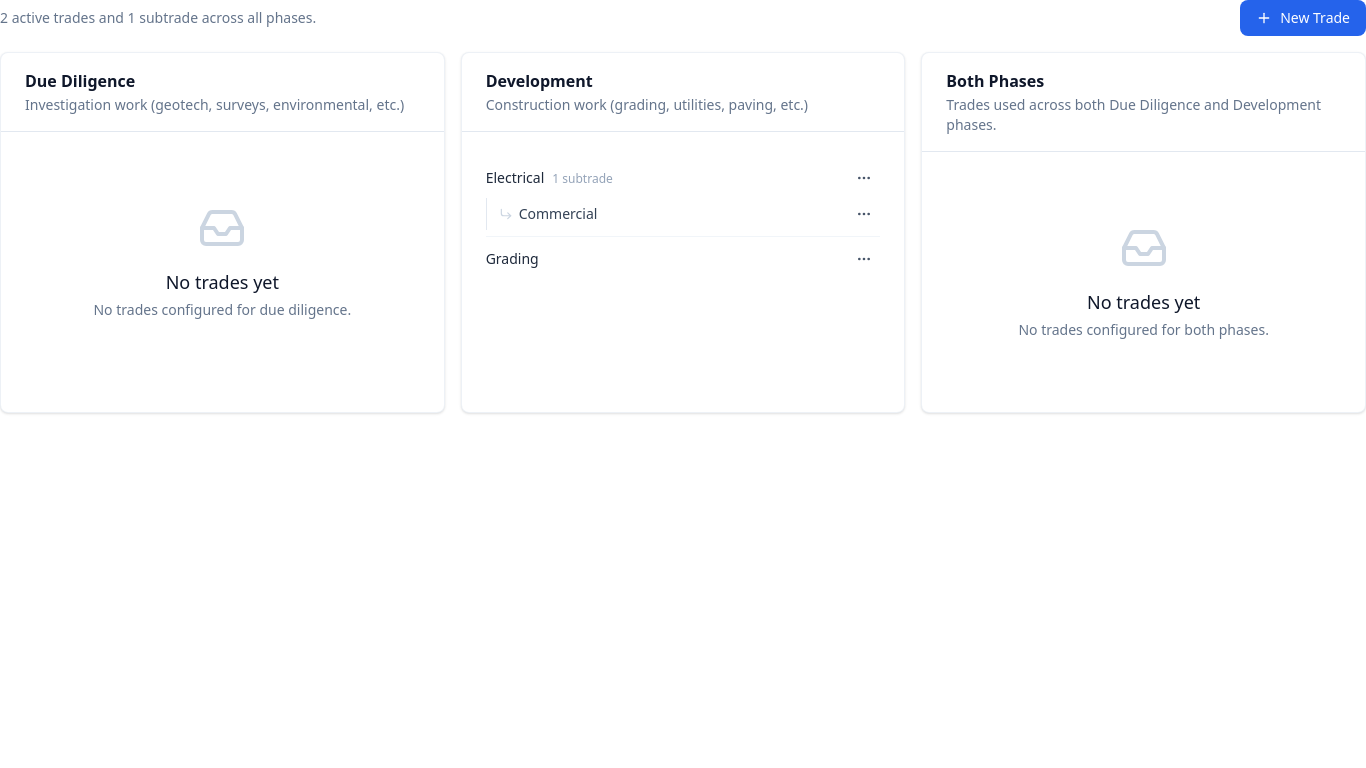
TradeManagementPanel › opens the add-subtrade form from a trade
This screenshot has width=1366, height=768.
Click the button named "actions for electrical" at (864, 178), box [848,162,880,194]
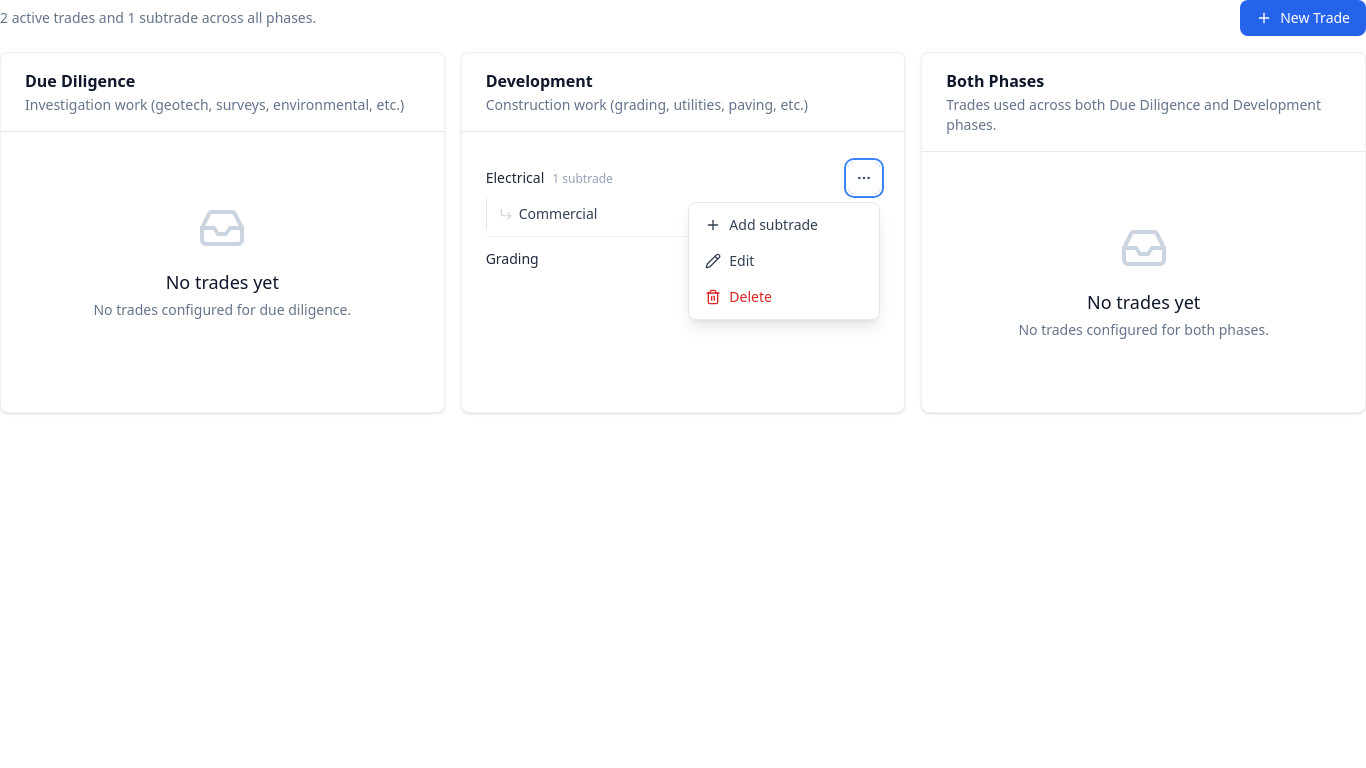
Click the menu item "Add subtrade" at (784, 225), box [689,207,879,243]
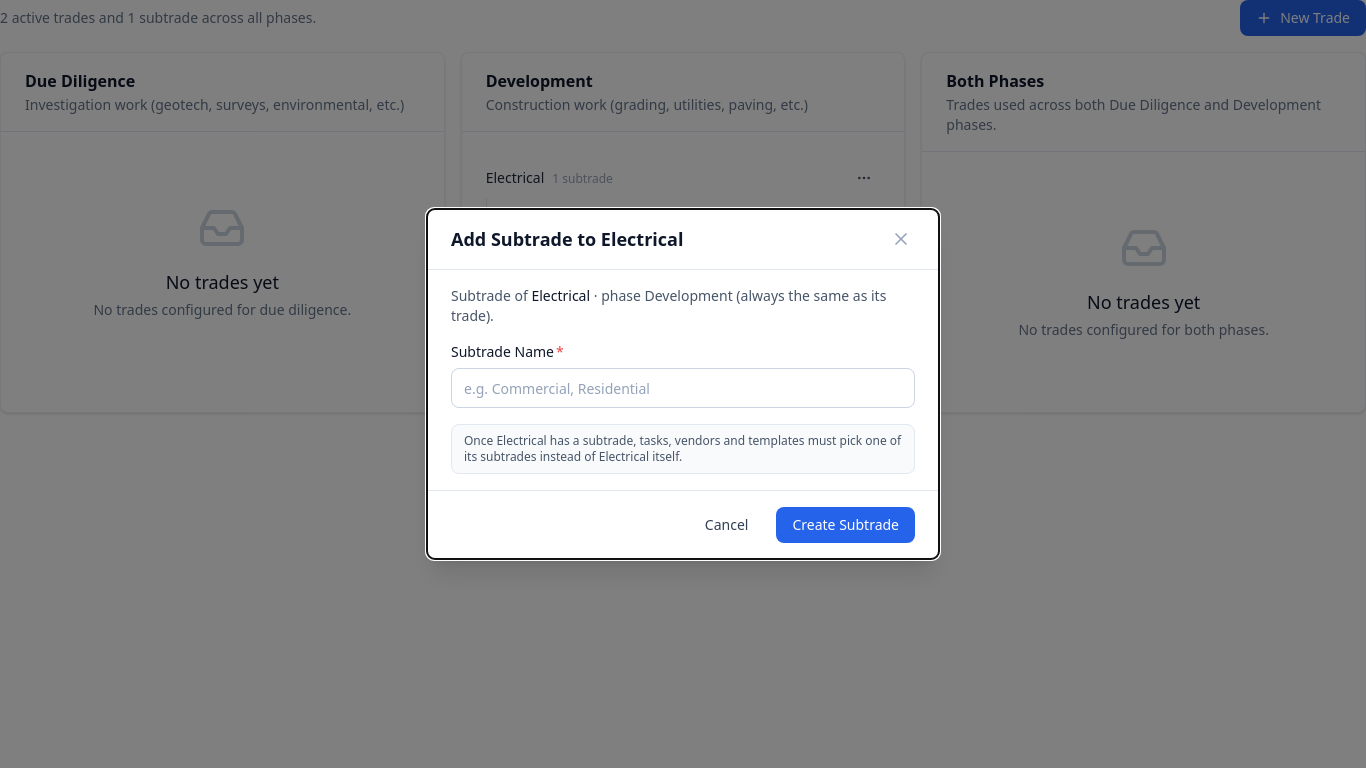
Expected: the heading "Add Subtrade to Electrical" is shown, [451,225,683,253]
